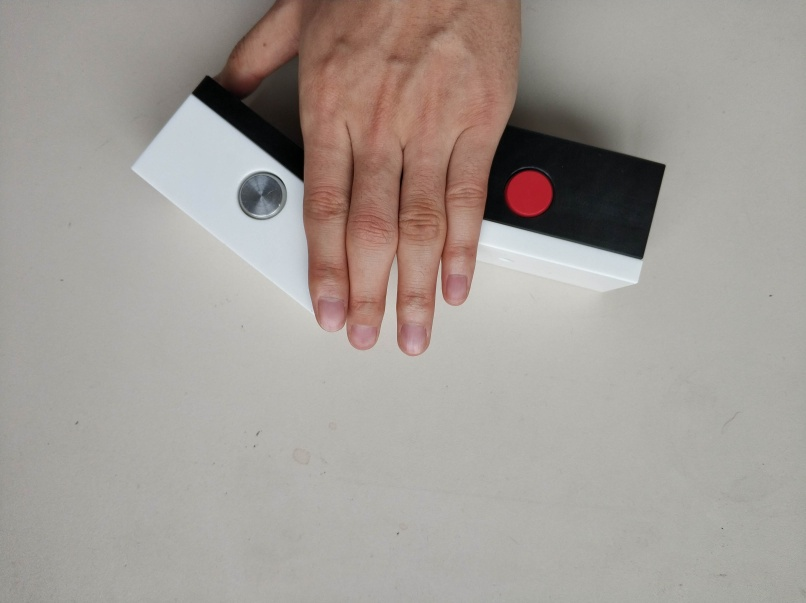black+white+silver: (128, 73, 317, 318)
white+black+red: (477, 120, 668, 300)
